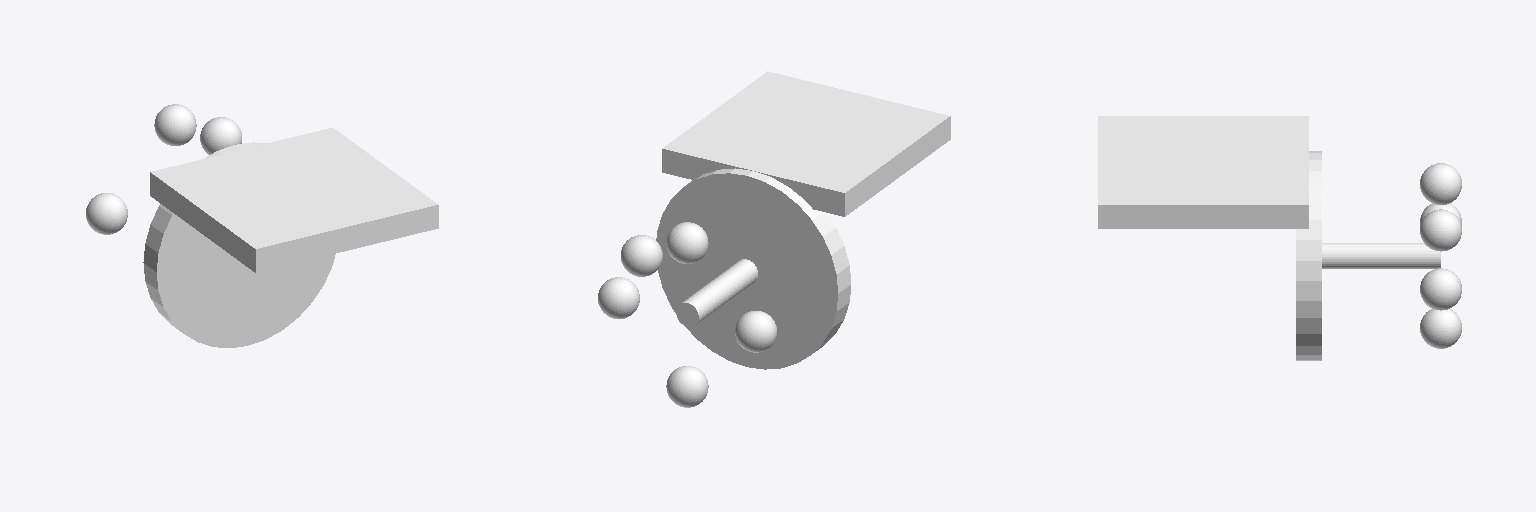
File: asset_5019bc2f-91c4-463f-b9ea-2e61c1c5dec6.obj
3 renders of one model, left to right at view 1: azimuth 30°, elevation 25°; view 2: azimuth 150°, elevation 25°; view 3: azimuth 270°, elevation 25°, orthographic.
Bounding box in the file's own units: 0.8 × 0.8 × 1.38.